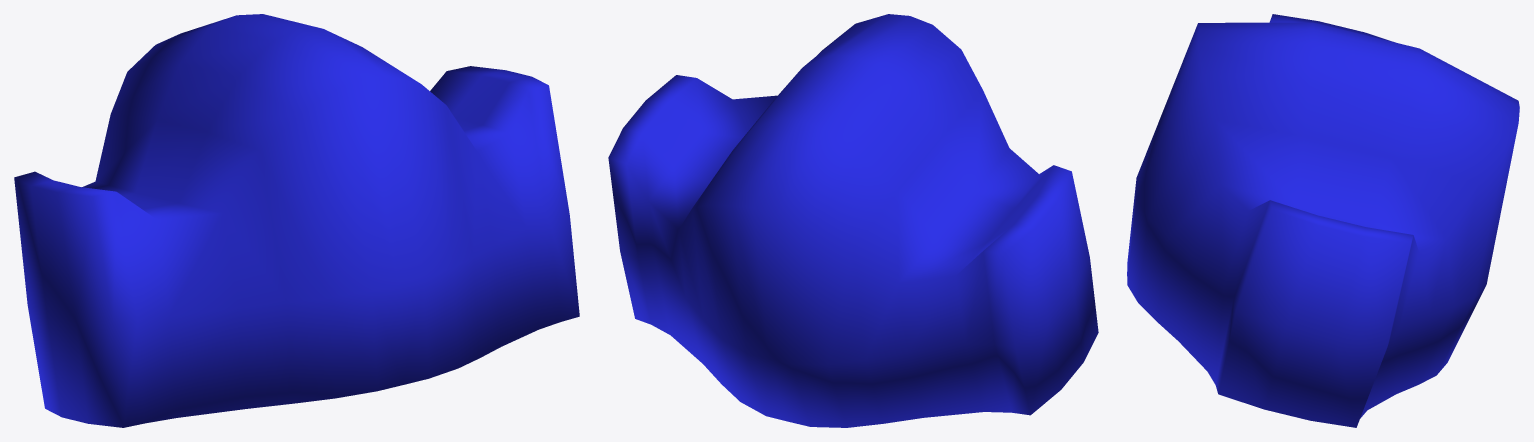
Rendered from Man01Hat.FBX.
3 renders of one model, left to right at view 1: azimuth 30°, elevation 25°; view 2: azimuth 150°, elevation 25°; view 3: azimuth 270°, elevation 25°, orthographic. The views are drawn at different scales.
Parts seen in each view (by area): view 1: Box001; view 2: Box001; view 3: Box001.
Part boxes in pixels (x1=…): Box001: x1=14, y1=14, x2=579, y2=427; Box001: x1=608, y1=14, x2=1098, y2=427; Box001: x1=1127, y1=14, x2=1519, y2=427.
Bounding box in the file's own units: 92.68 × 75.27 × 68.17.
1 material, 1 textured.
